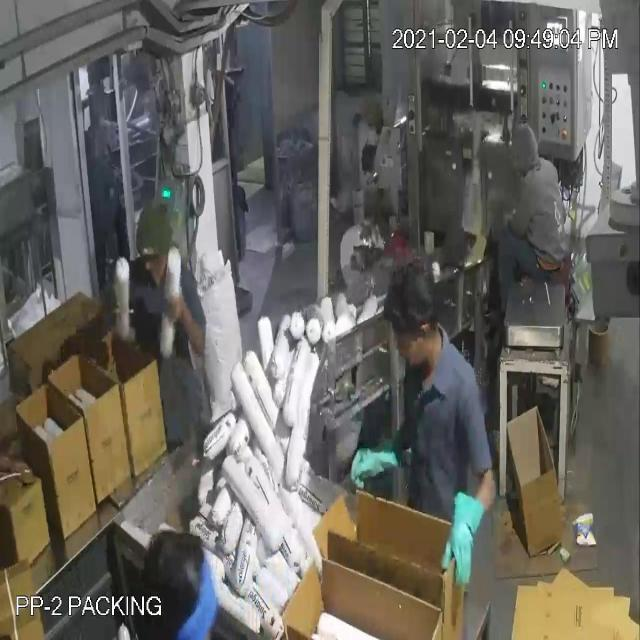No_Gloves: (46, 60, 468, 537)
